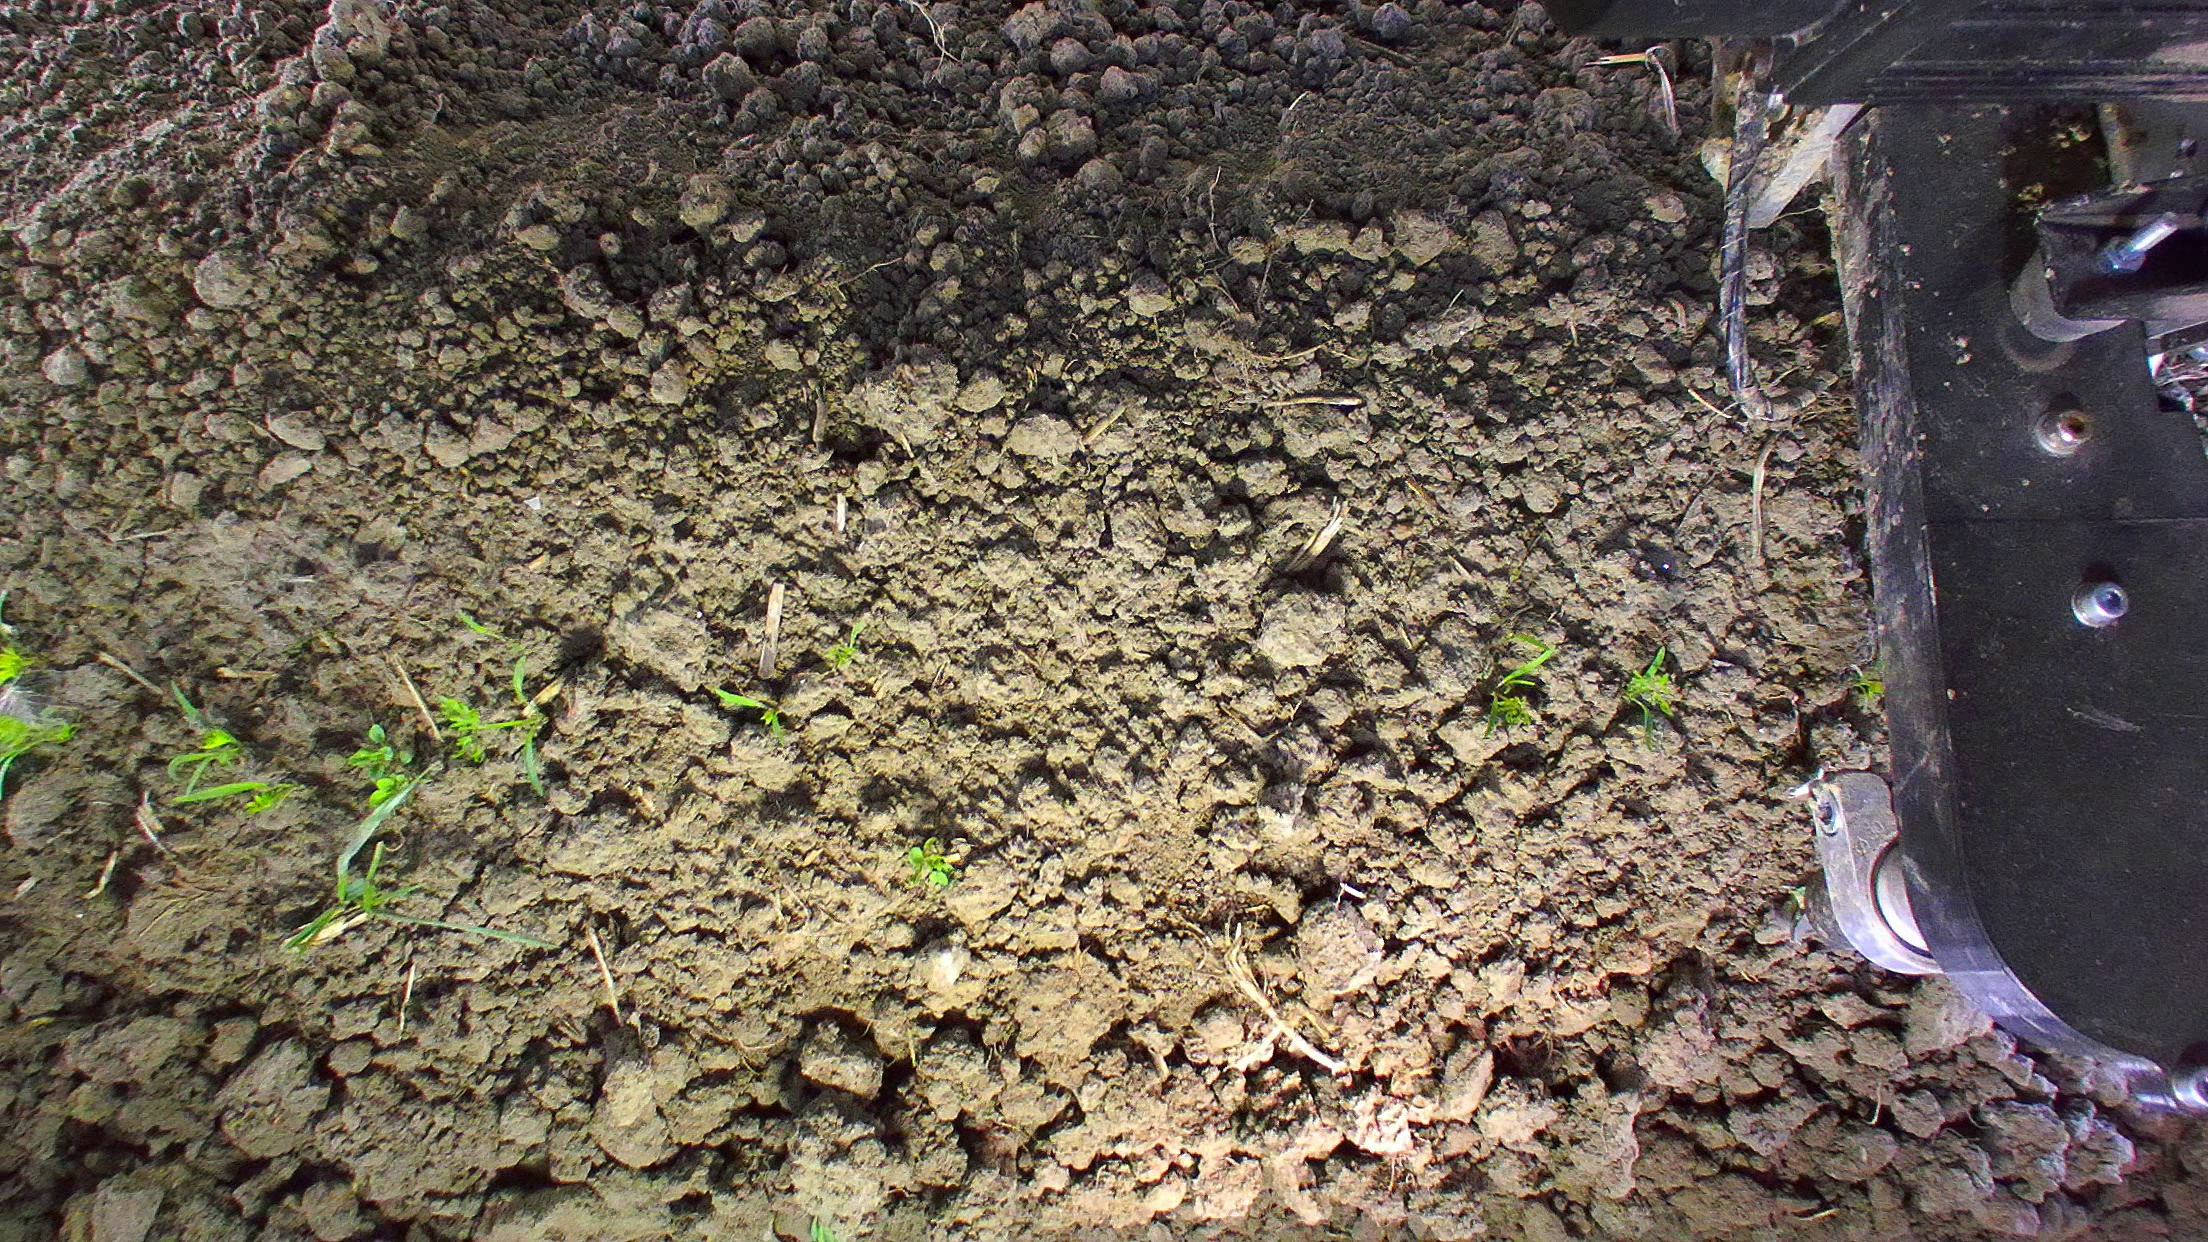Crop: (162, 676, 312, 817), (432, 641, 547, 798), (0, 707, 86, 804), (1482, 631, 1559, 739), (1623, 643, 1674, 748), (713, 685, 786, 745), (0, 623, 36, 690)
Weed: (281, 719, 435, 958), (904, 834, 960, 890), (823, 619, 861, 667)
